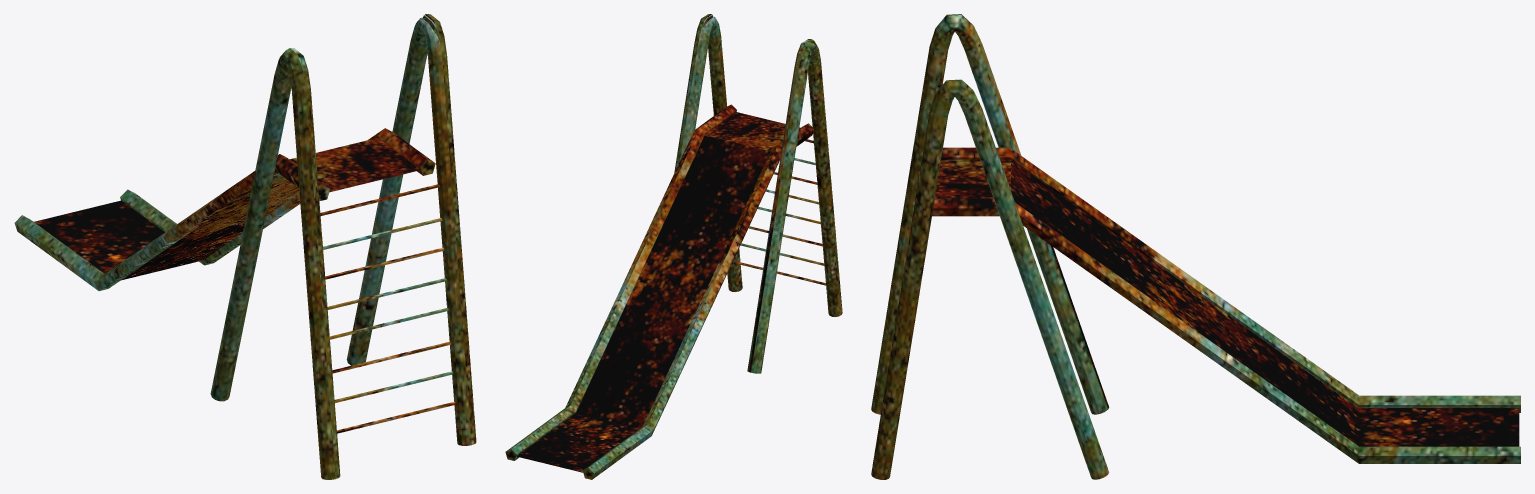
The model's file is Hill.fbx.
The picture shows the model from 3 angles, left to right: view 1: azimuth 30°, elevation 25°; view 2: azimuth 150°, elevation 25°; view 3: azimuth 270°, elevation 25°; orthographic projection. The views are drawn at different scales.
Visible parts, largest first — view 1: Cube; view 2: Cube; view 3: Cube.
Boxes of the visible parts, box(x1,y1,x2,y2) form: Cube: box(14, 14, 476, 479); Cube: box(505, 14, 842, 479); Cube: box(871, 14, 1520, 479).
Size of the model in its own units: 94.16 by 236 by 349.
Materials: 1 (1 with a texture image).
